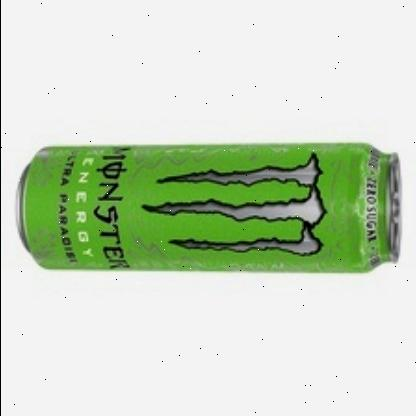Can: (17, 140, 399, 272)
